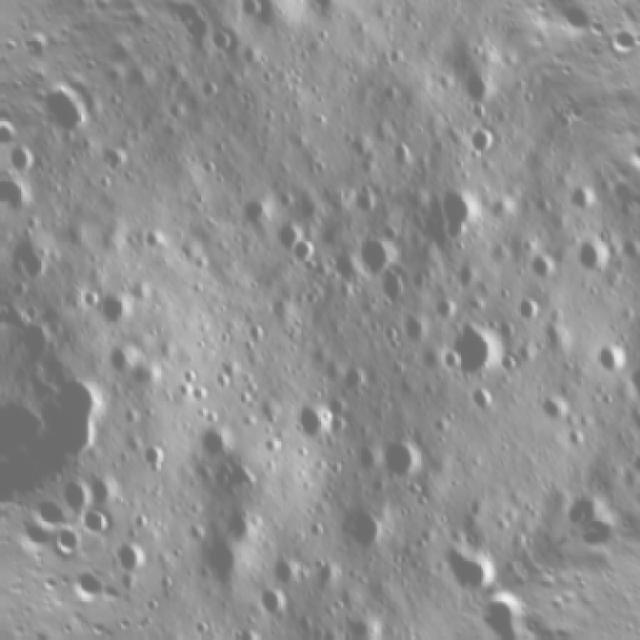crater: (417, 526, 506, 611), (424, 306, 510, 391), (415, 170, 493, 250), (0, 222, 62, 298), (326, 494, 392, 563), (362, 426, 430, 492), (340, 222, 403, 286), (312, 242, 372, 302), (448, 52, 506, 113), (72, 456, 130, 515), (185, 415, 243, 473), (100, 529, 158, 586), (225, 186, 282, 242), (565, 228, 621, 284), (279, 390, 333, 448), (86, 281, 140, 333), (528, 383, 580, 435), (258, 542, 308, 596), (72, 497, 122, 551), (48, 468, 97, 520), (528, 314, 578, 364), (86, 134, 134, 186), (560, 172, 608, 222), (301, 546, 348, 596), (368, 262, 415, 310), (261, 214, 308, 261), (587, 334, 633, 380), (0, 167, 35, 227), (129, 437, 174, 483), (520, 245, 566, 289), (245, 582, 290, 626), (0, 142, 43, 188), (462, 114, 504, 160), (506, 286, 548, 329), (282, 230, 324, 272), (334, 604, 382, 640), (197, 20, 238, 62), (431, 344, 467, 382), (615, 353, 640, 407), (556, 423, 589, 457), (227, 0, 265, 26), (620, 445, 640, 483)
